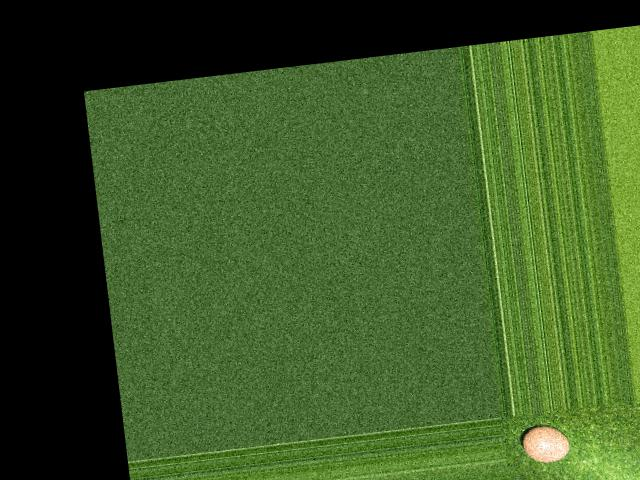egg: (521, 422, 572, 464)
